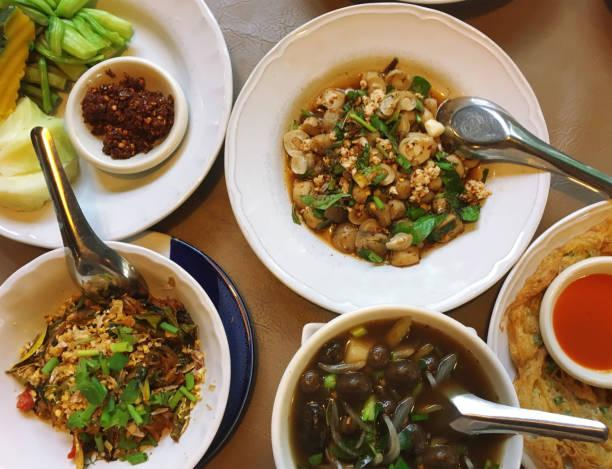Braised Crucian Carp: (224, 3, 547, 314), (3, 1, 233, 249), (2, 241, 233, 468), (271, 305, 524, 465)
